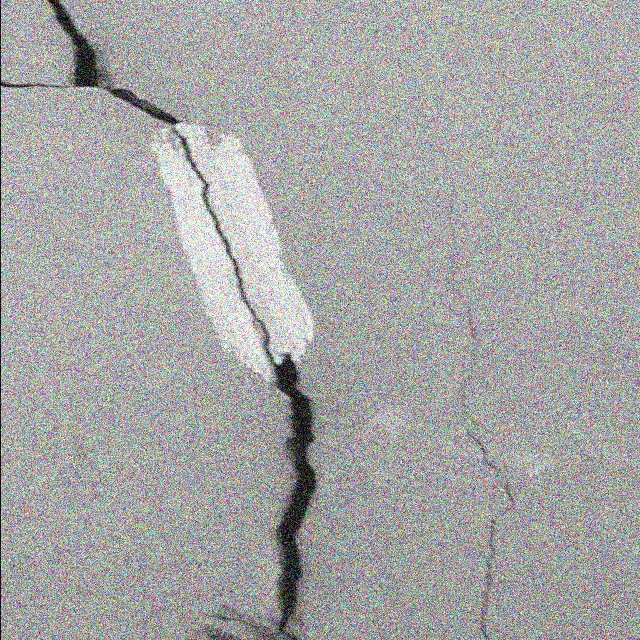SurfaceCrack: (5, 0, 357, 640), (348, 4, 540, 640)
